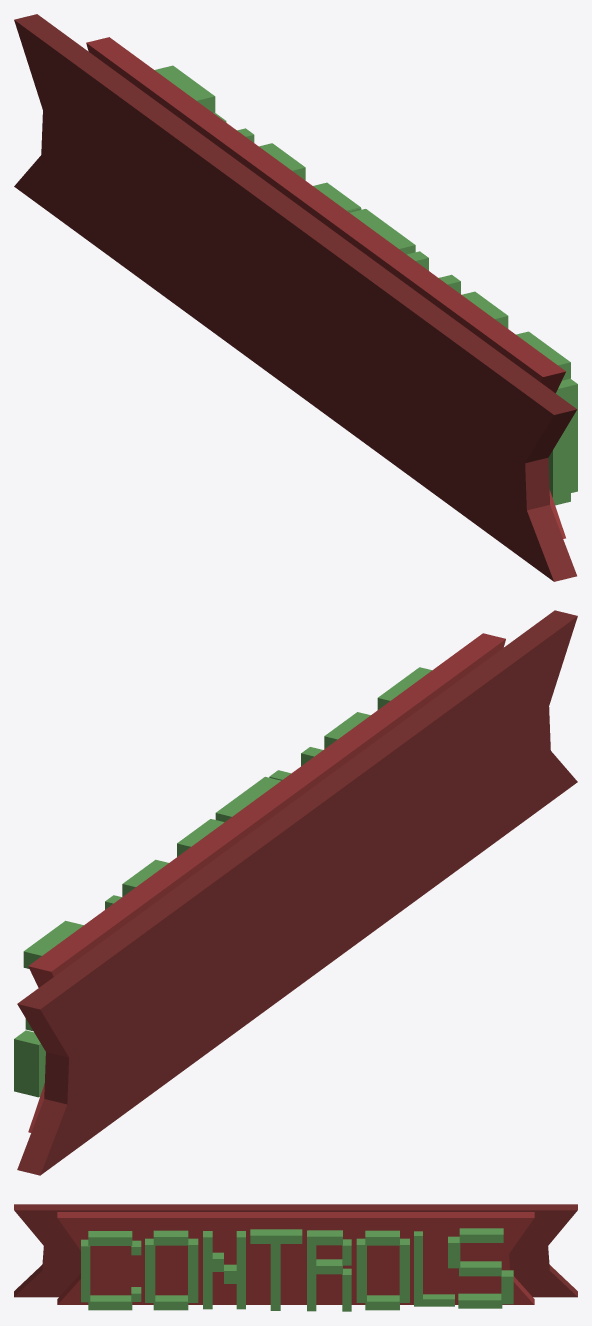
Rendered from ControlsButton.fbx.
The picture shows the model from 3 angles, top to bottom: view 1: azimuth 30°, elevation 25°; view 2: azimuth 150°, elevation 25°; view 3: azimuth 270°, elevation 25°; orthographic projection. The views are drawn at different scales.
Visible parts, largest first — view 1: pCube68, pCube60; view 2: pCube68, pCube60; view 3: pCube68, pCube60.
Boxes of the visible parts, x1,y1,x2,y2 form: pCube68: (14, 14, 577, 581); pCube60: (155, 65, 577, 505); pCube68: (17, 610, 577, 1175); pCube60: (14, 667, 431, 1097); pCube68: (14, 1204, 577, 1304); pCube60: (81, 1228, 513, 1311).
Bounding box in the file's own units: 62.15 × 113 × 661.
